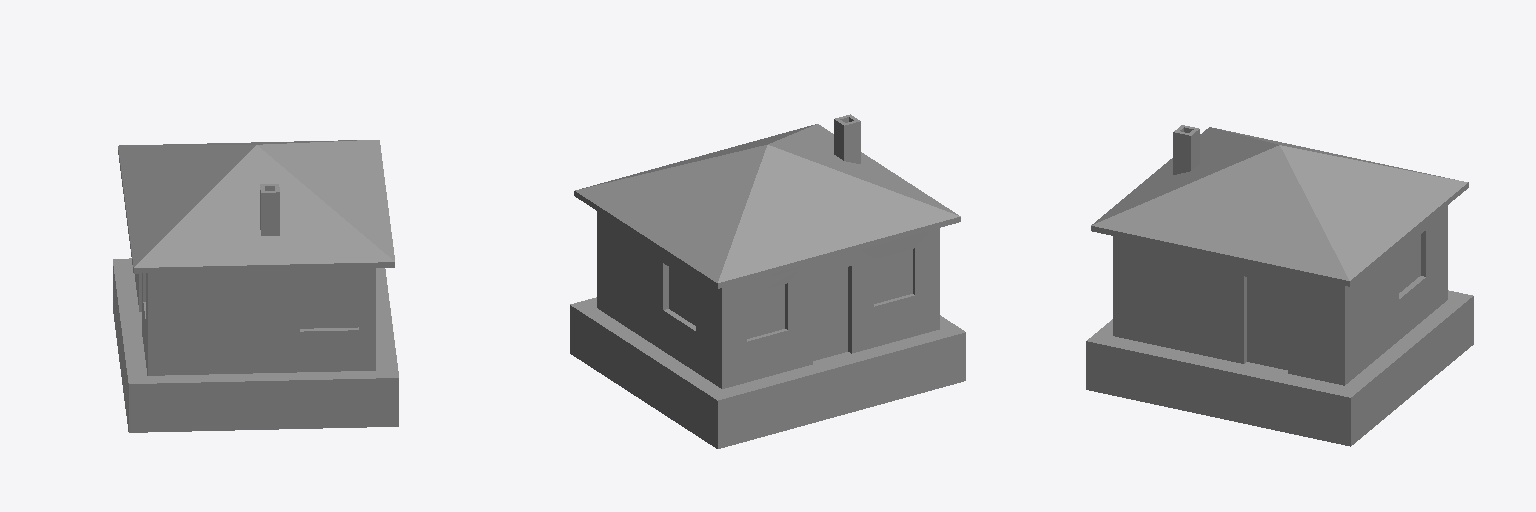
File: BuildingOBJ14.obj
The picture shows the model from 3 angles: view 1: azimuth 30°, elevation 25°; view 2: azimuth 150°, elevation 25°; view 3: azimuth 270°, elevation 25°; orthographic projection.
Visible parts, largest first — view 1: cabin_004.000_Untitled.003; view 2: cabin_004.000_Untitled.003; view 3: cabin_004.000_Untitled.003.
Part boxes in pixels (x1,y1,x2,y2): cabin_004.000_Untitled.003: (113,140,398,432); cabin_004.000_Untitled.003: (570,114,965,448); cabin_004.000_Untitled.003: (1086,125,1473,446).
Size of the model in its own units: 3.04 by 1.99 by 3.14.